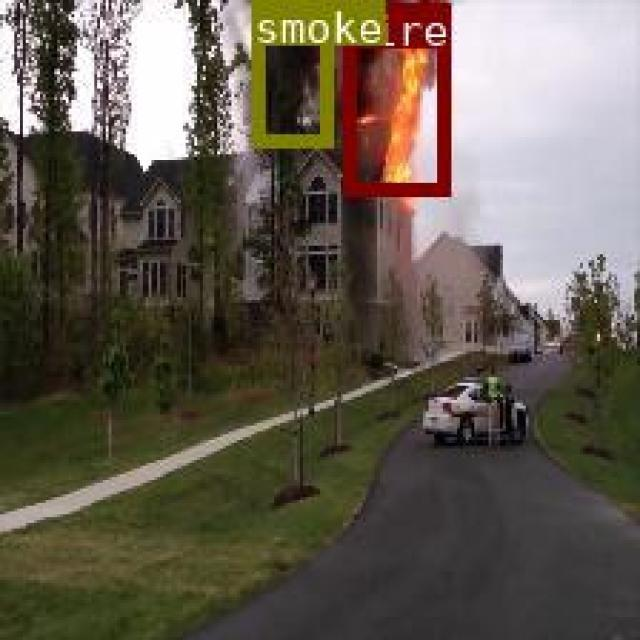fire: (342, 1, 446, 193)
smoke: (250, 0, 330, 146)
